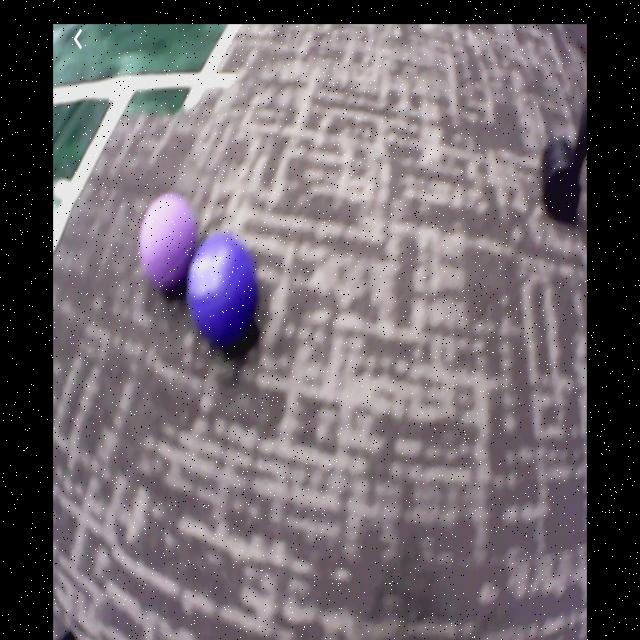ball: (189, 233, 259, 352), (140, 194, 197, 299)
